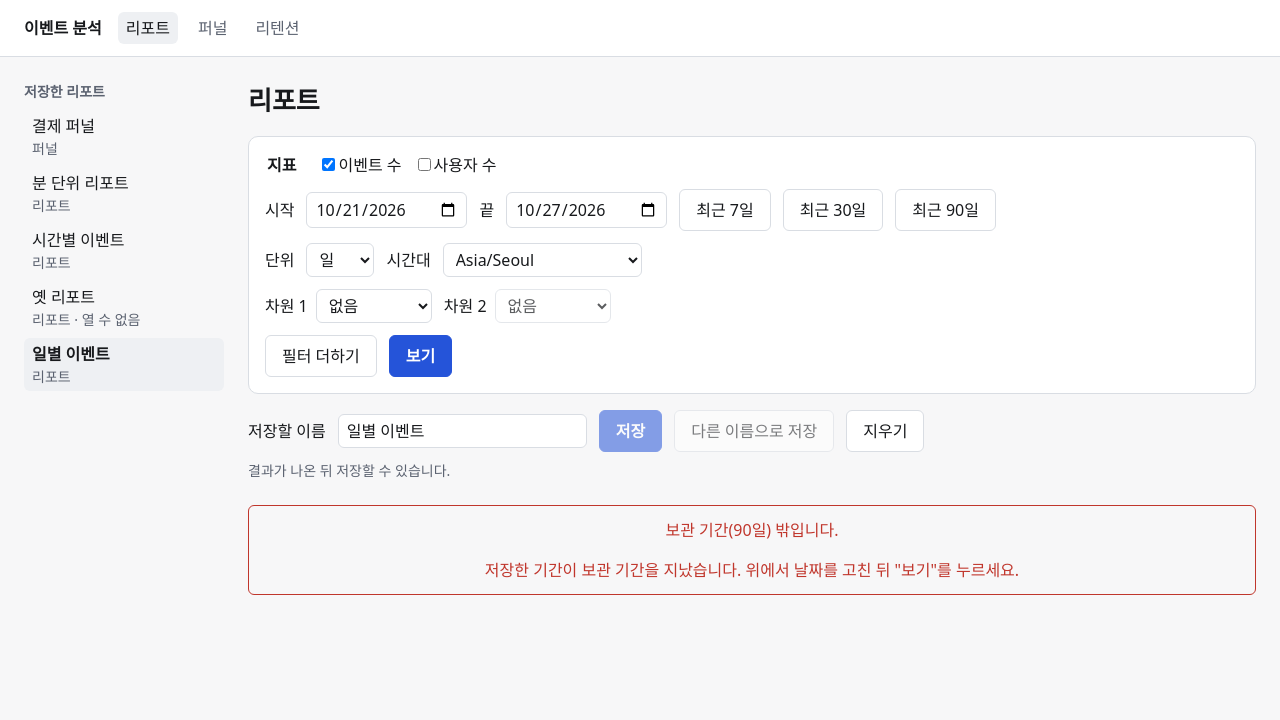
Test case: 열기 › 저장한 기간 그대로 셀 때 보관 기간을 지났으면(422) 날짜를 고치라고 덧붙인다(설정을 바꾼 뒤의 422에는 아니다)
Expected: the message shows "보관 기간(90일) 밖입니다.", [666,519,838,541]
Expected: the message shows "위에서 날짜를 고친 뒤", [485,559,1019,581]
Select "주" in the dropdown labelled "단위" at (340, 260), box [306,243,374,277]
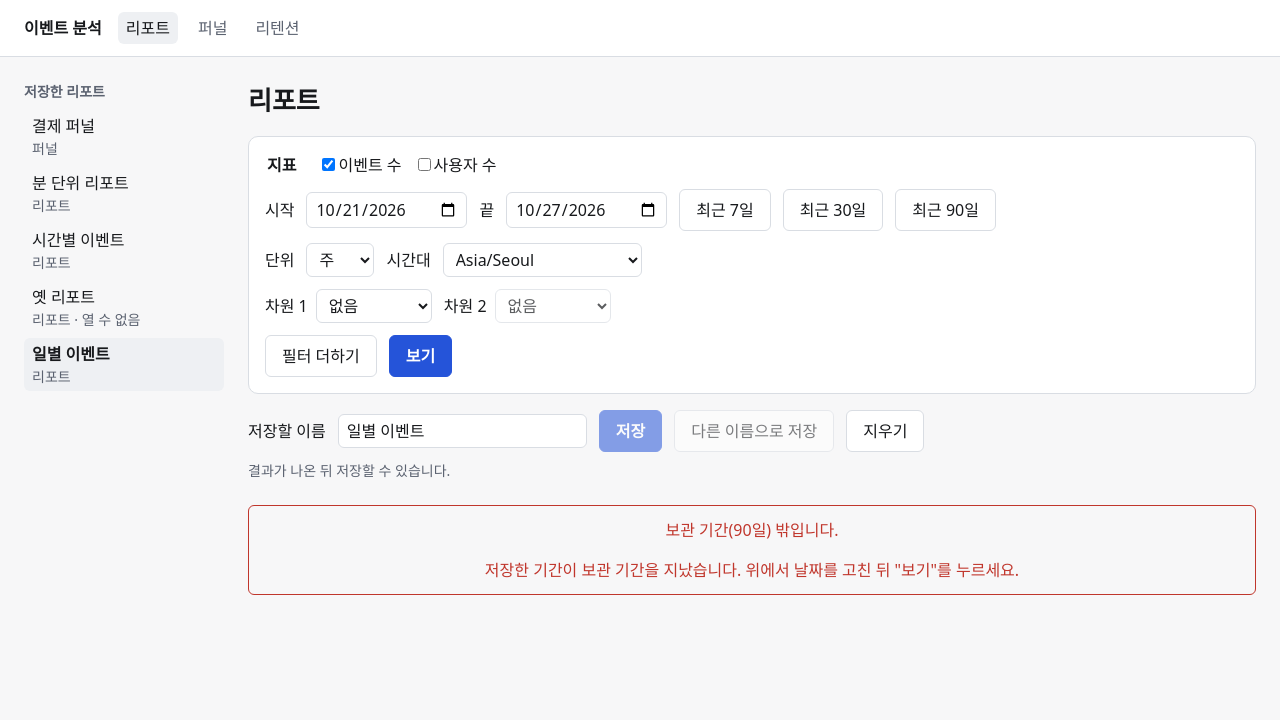
Click the button "보기" at (421, 356), box [389,335,452,377]
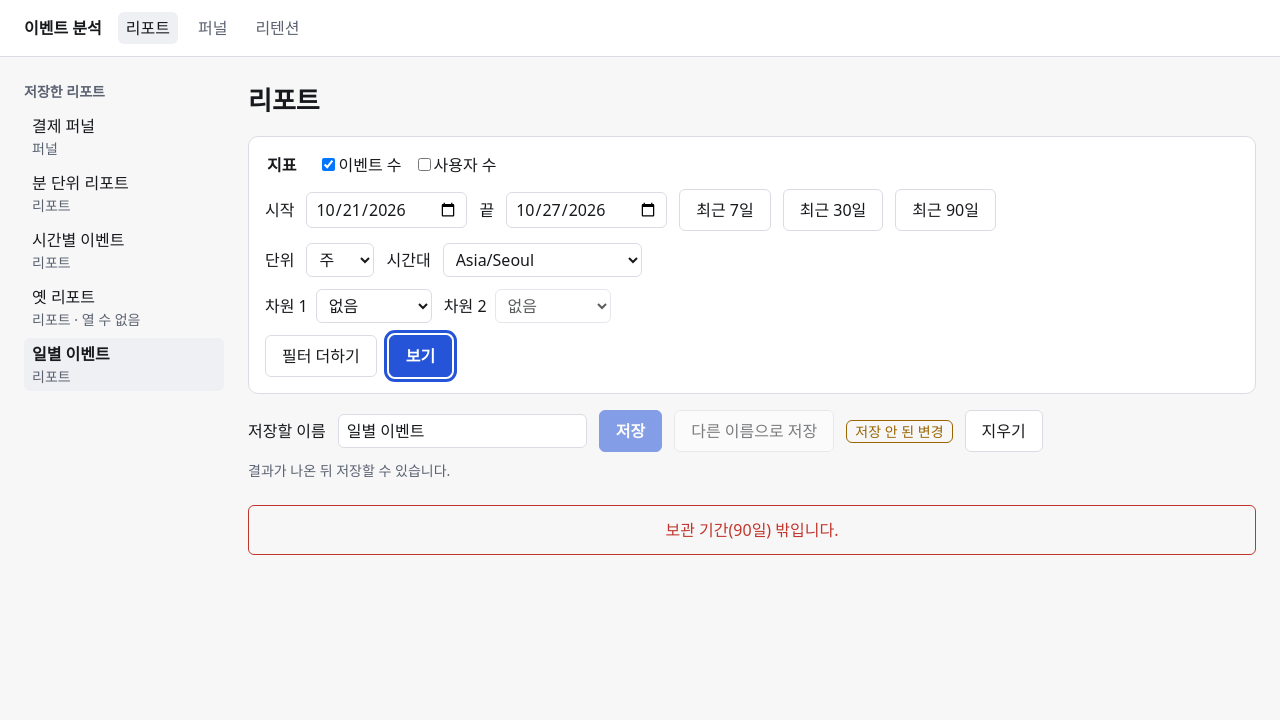
Result: the text "위에서 날짜를 고친 뒤" is gone
